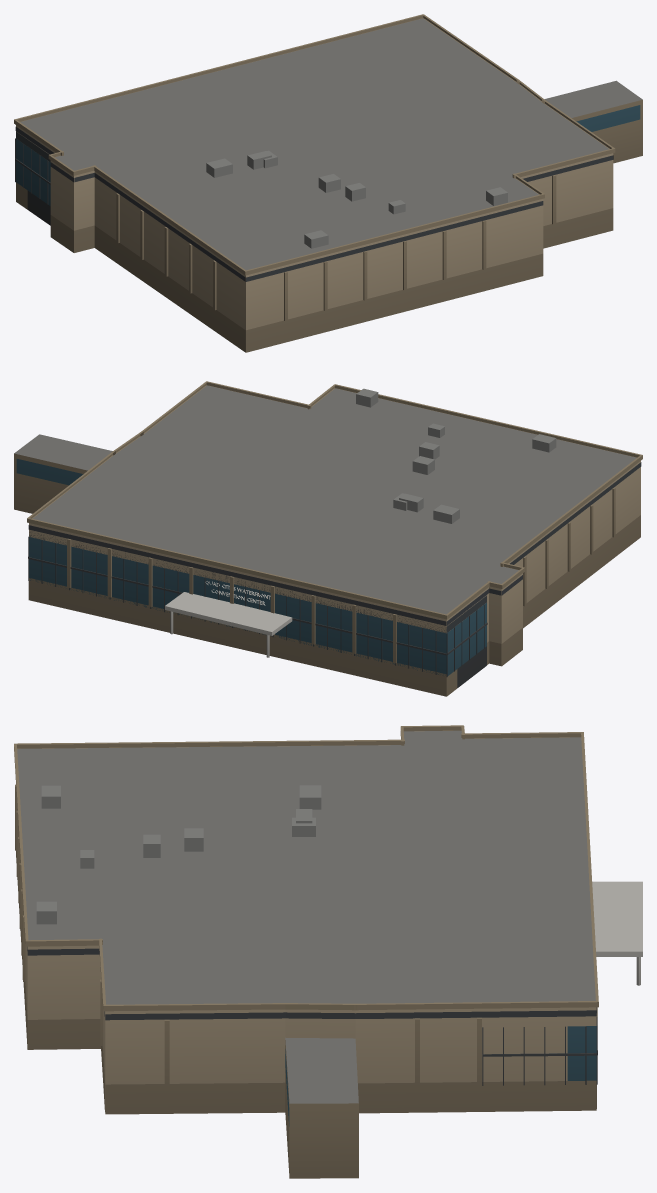
Rendered from convention.glb.
3 views of the same model, one above another, from view 1: azimuth 30°, elevation 25°; view 2: azimuth 150°, elevation 25°; view 3: azimuth 270°, elevation 25° (orthographic). The views are drawn at different scales.
Visible parts, largest first — view 1: convention_lod0; view 2: convention_lod0; view 3: convention_lod0.
Boxes of the visible parts, x1,y1,x2,y2 form: convention_lod0: (14,14,642,352); convention_lod0: (14,381,642,696); convention_lod0: (14,725,642,1178).
Size of what is drawn, in the model's own units: 98.56 by 15.91 by 76.15.
